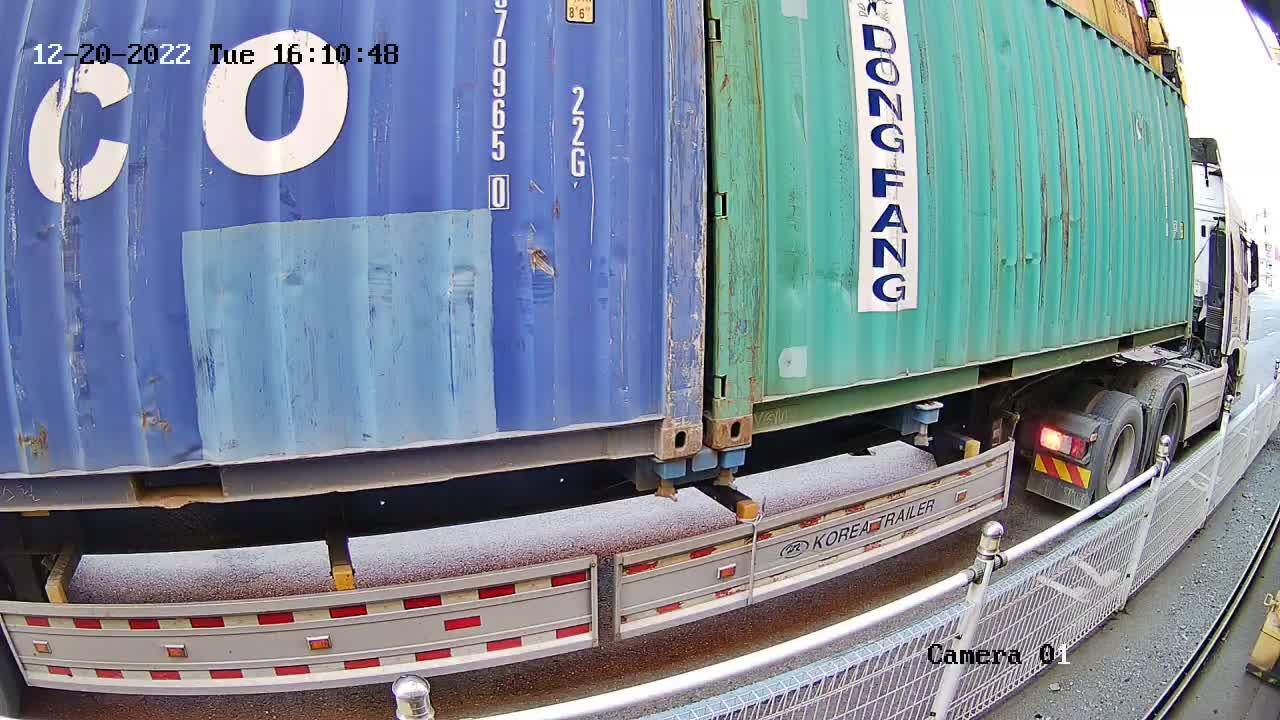Cone: (653, 456, 692, 503), (710, 445, 750, 490)
Hole_L: (716, 369, 790, 447)
Hole_R: (615, 382, 702, 458)
Tire: (1095, 400, 1144, 512), (1153, 386, 1187, 465)
